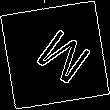M_SW: (21, 21, 89, 89)
